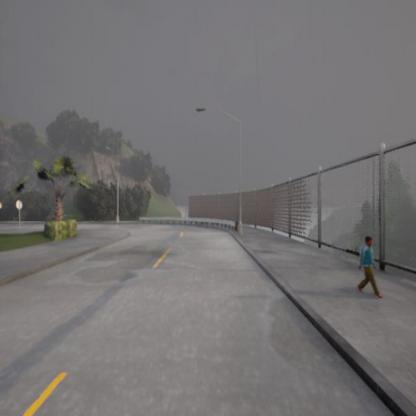person: (357, 236, 385, 298)
